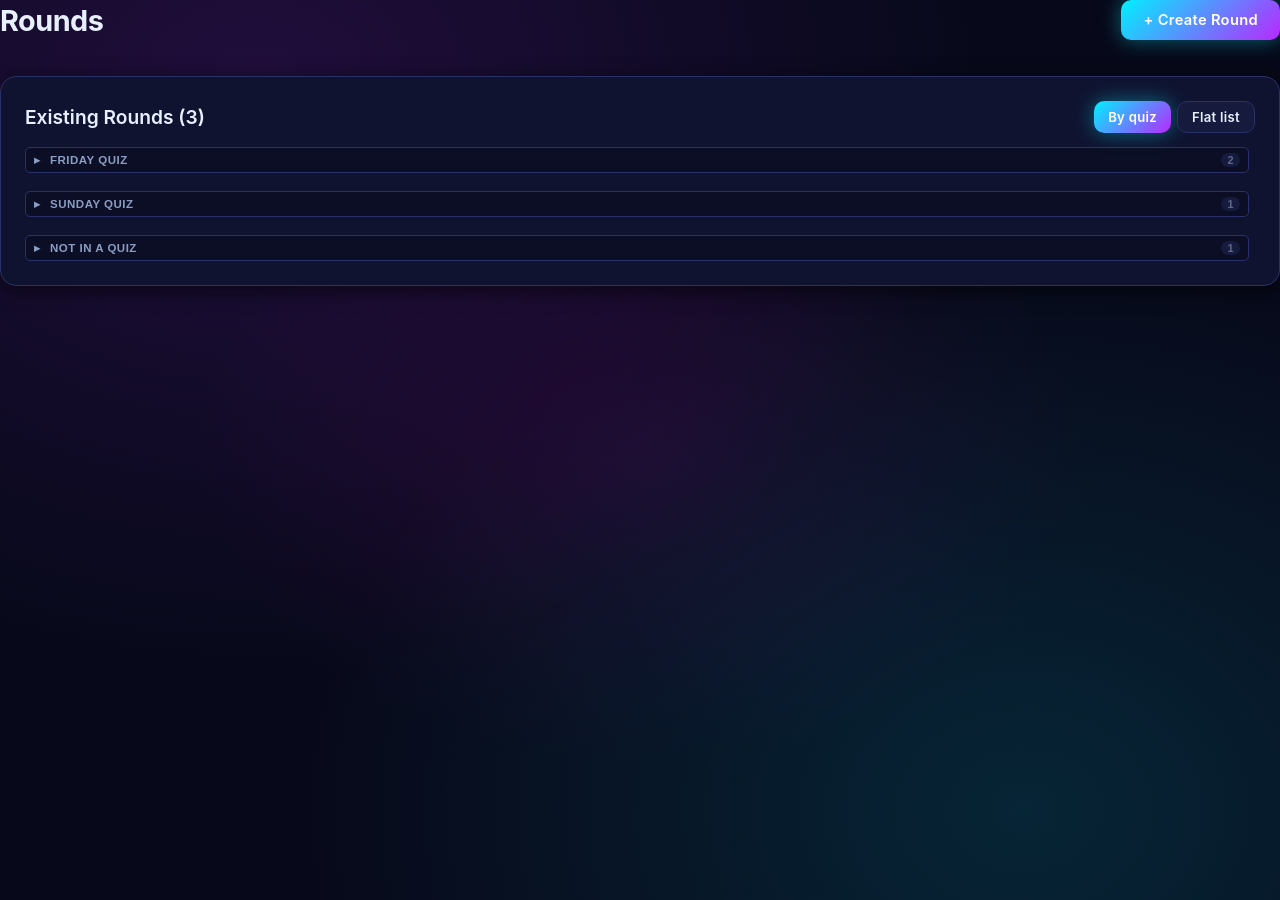
it: RoundBuilder — rounds grouped by quiz › groups by quiz (newest first), shows shared rounds in each, and puts unassigned last
The image size is (1280, 900).
Click the button "▸ Friday Quiz 2" at x=89, y=160, box [25,147,1249,173]
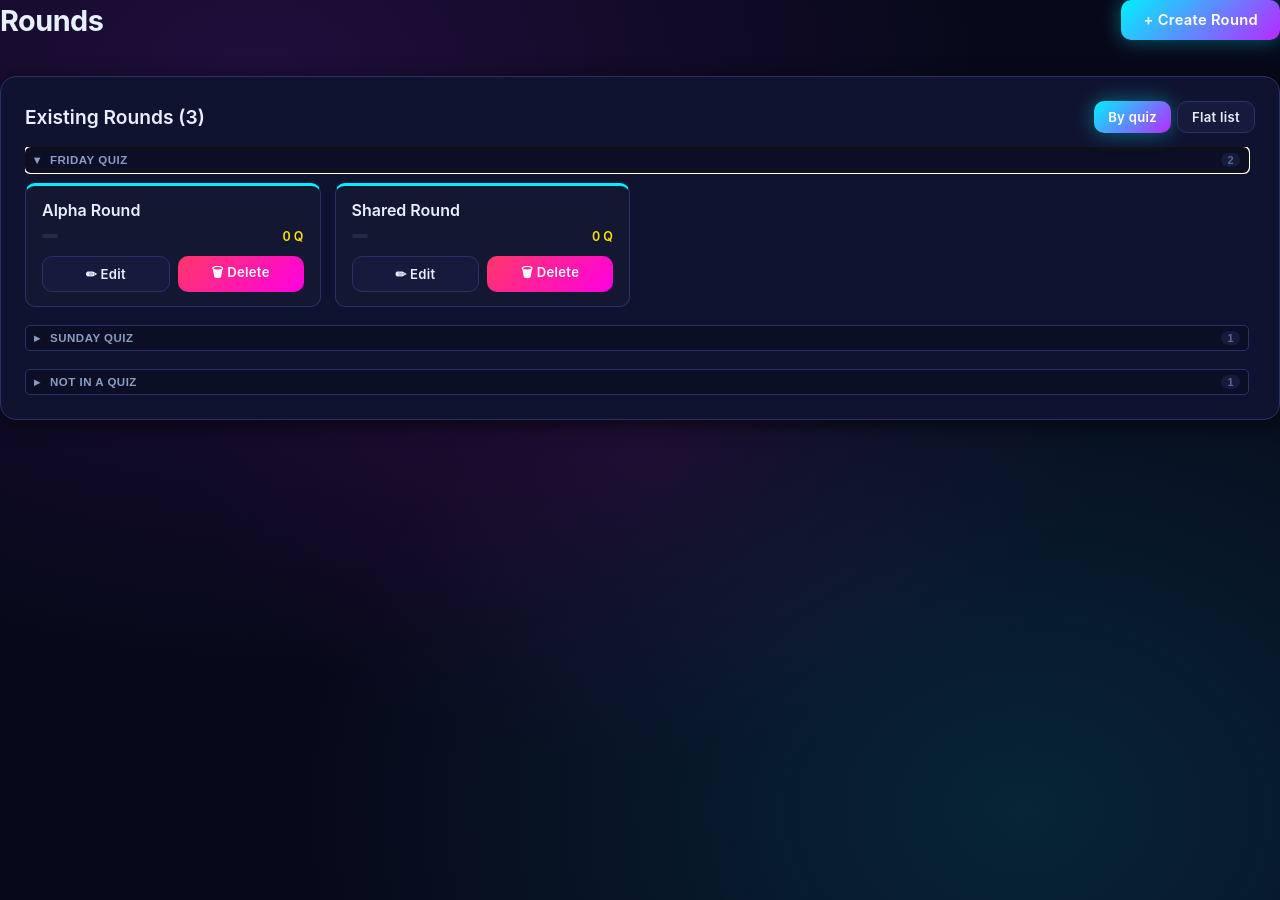
Click the button "▸ Sunday Quiz 1" at x=92, y=338, box [25,325,1249,351]
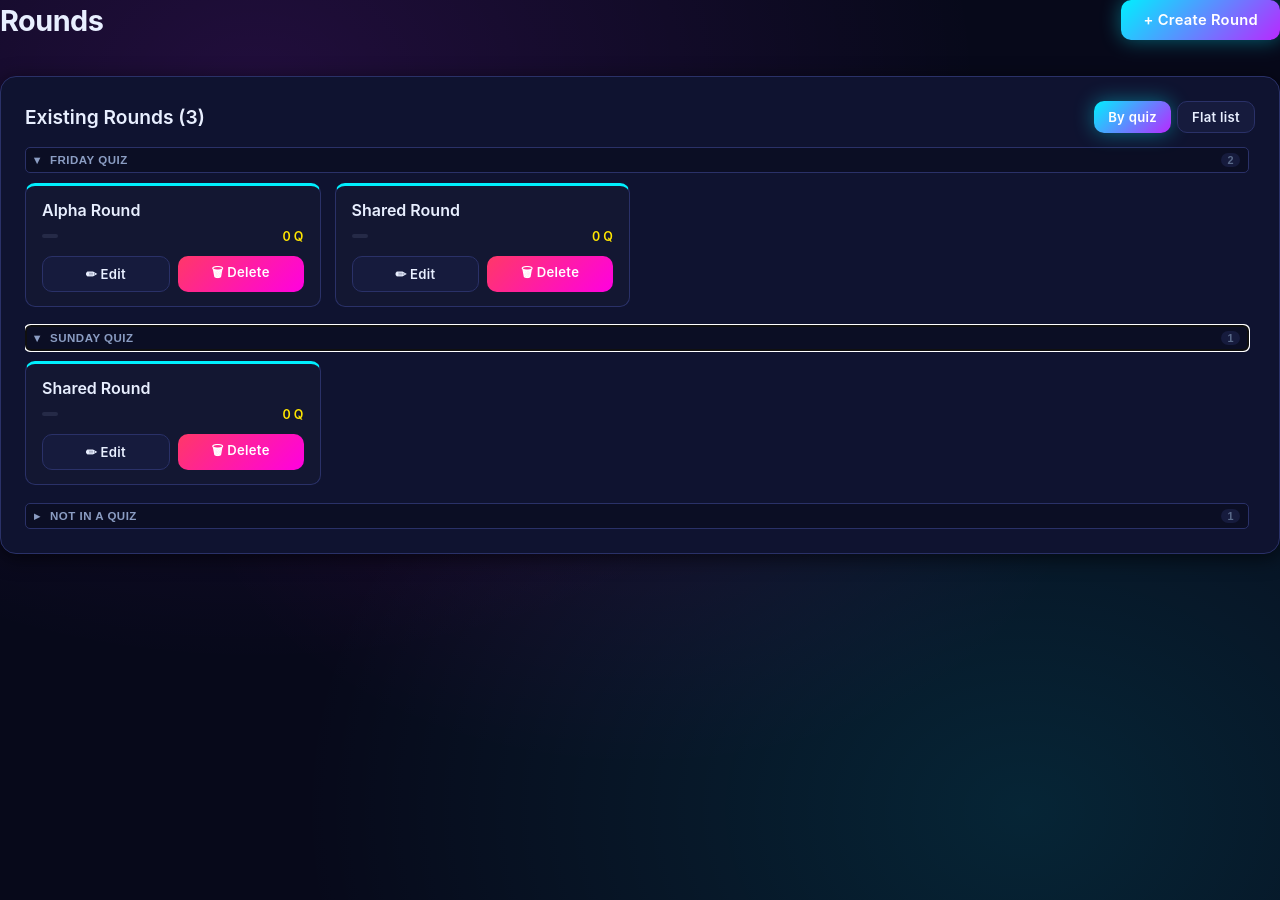
Click the button "▸ Not in a quiz 1" at x=93, y=516, box [25,503,1249,529]
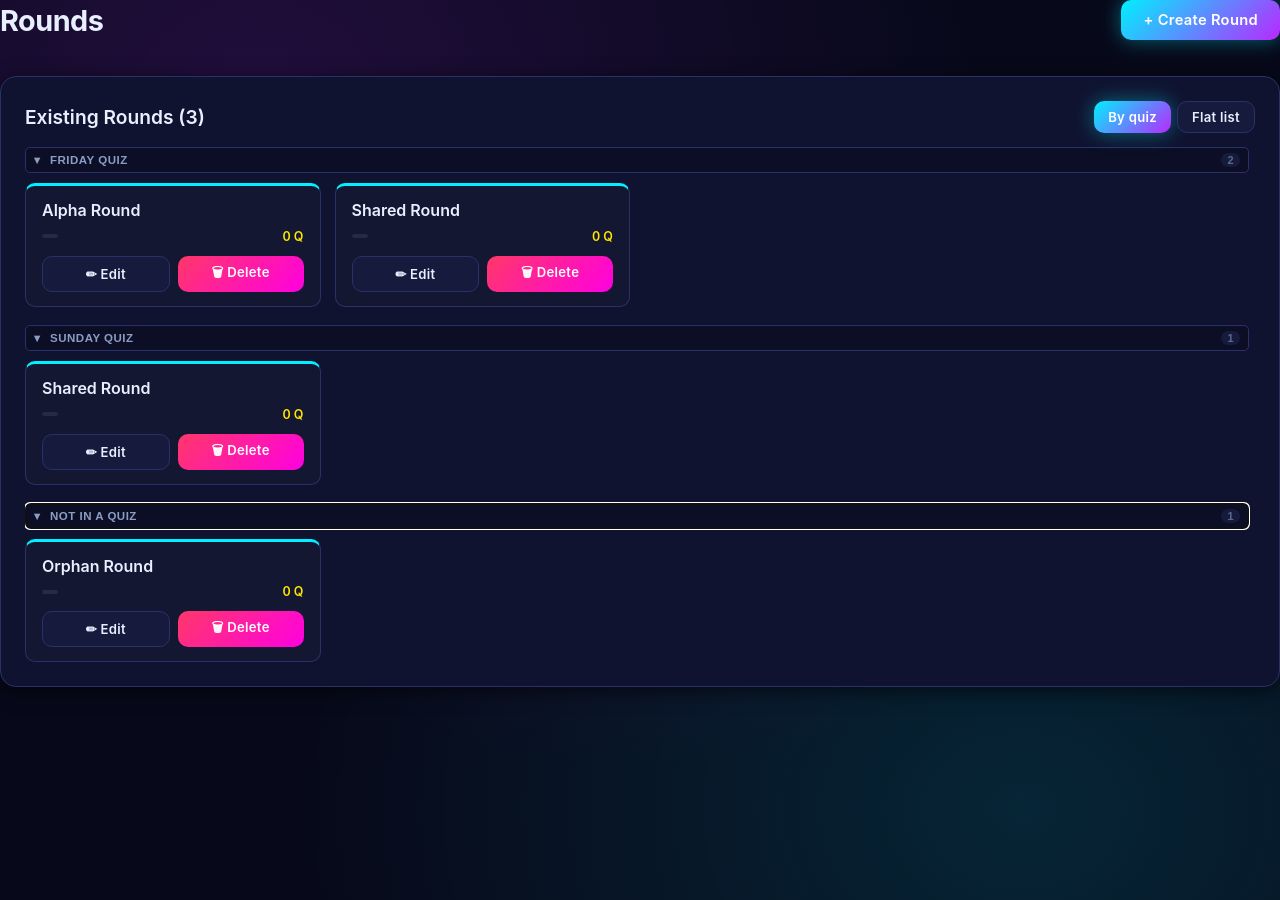
Now the number of headings "Shared Round" is 2, box [352,200,460,220]; [42,378,150,398]
Now the heading "Orphan Round" is shown, box [42,556,153,576]
